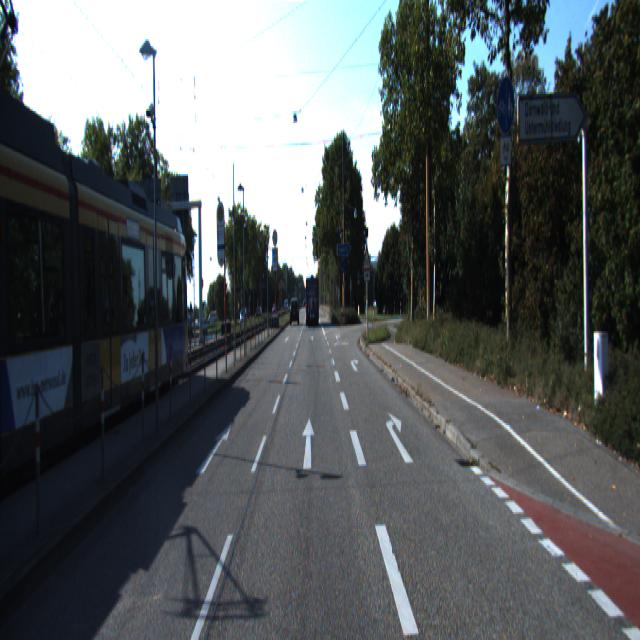Car: (23, 171, 199, 452), (305, 275, 320, 326), (290, 298, 300, 325)
